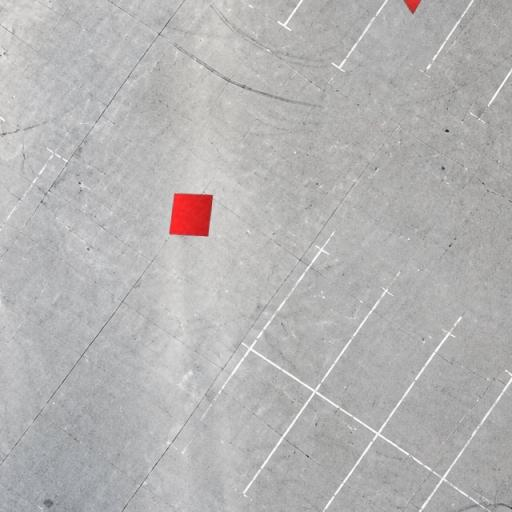RED_SQUARE: (168, 193, 214, 237)
